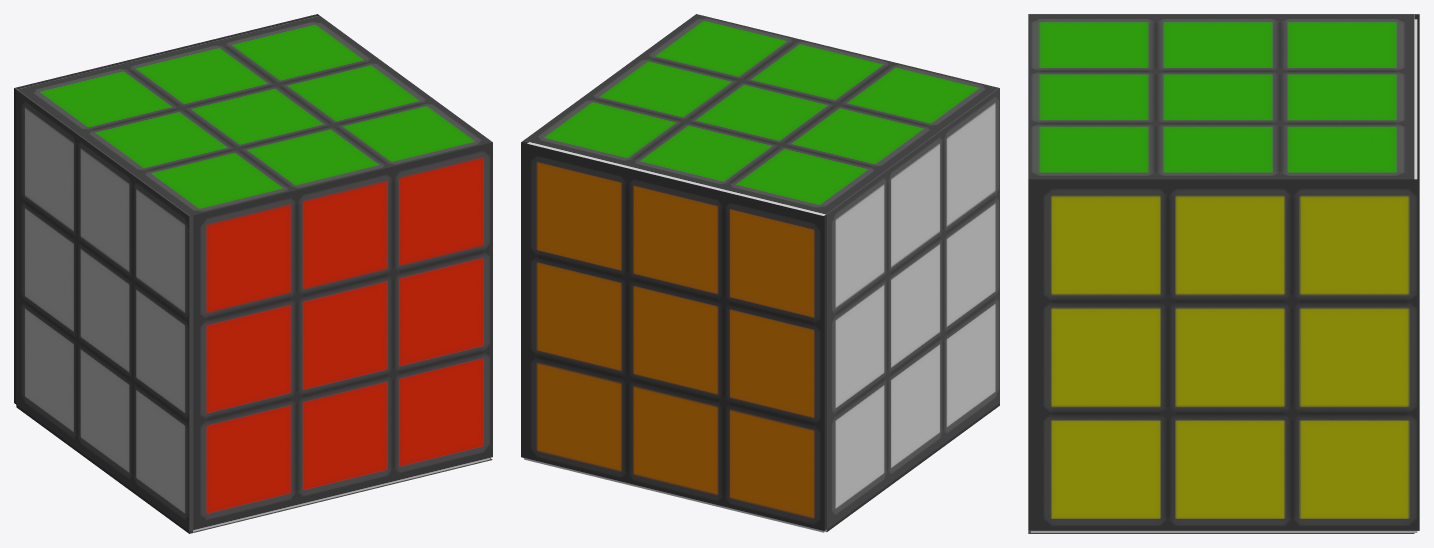
The model's file is Rubix Cube.fbx.
3 renders of one model, left to right at view 1: azimuth 30°, elevation 25°; view 2: azimuth 150°, elevation 25°; view 3: azimuth 270°, elevation 25°, orthographic. The views are drawn at different scales.
Visible parts, largest first — view 1: Rubix, rubix Glow; view 2: Rubix, rubix Glow; view 3: Rubix, rubix Glow.
Part boxes in pixels (box(x1,y1,x2,y2)): Rubix: box(14, 14, 492, 533); rubix Glow: box(193, 458, 489, 531); Rubix: box(521, 14, 999, 532); rubix Glow: box(524, 142, 826, 532); Rubix: box(1028, 14, 1419, 533); rubix Glow: box(1030, 19, 1417, 532).
Bounding box in the file's own units: 9.32 × 9.32 × 9.32.
1 material, 1 textured.
